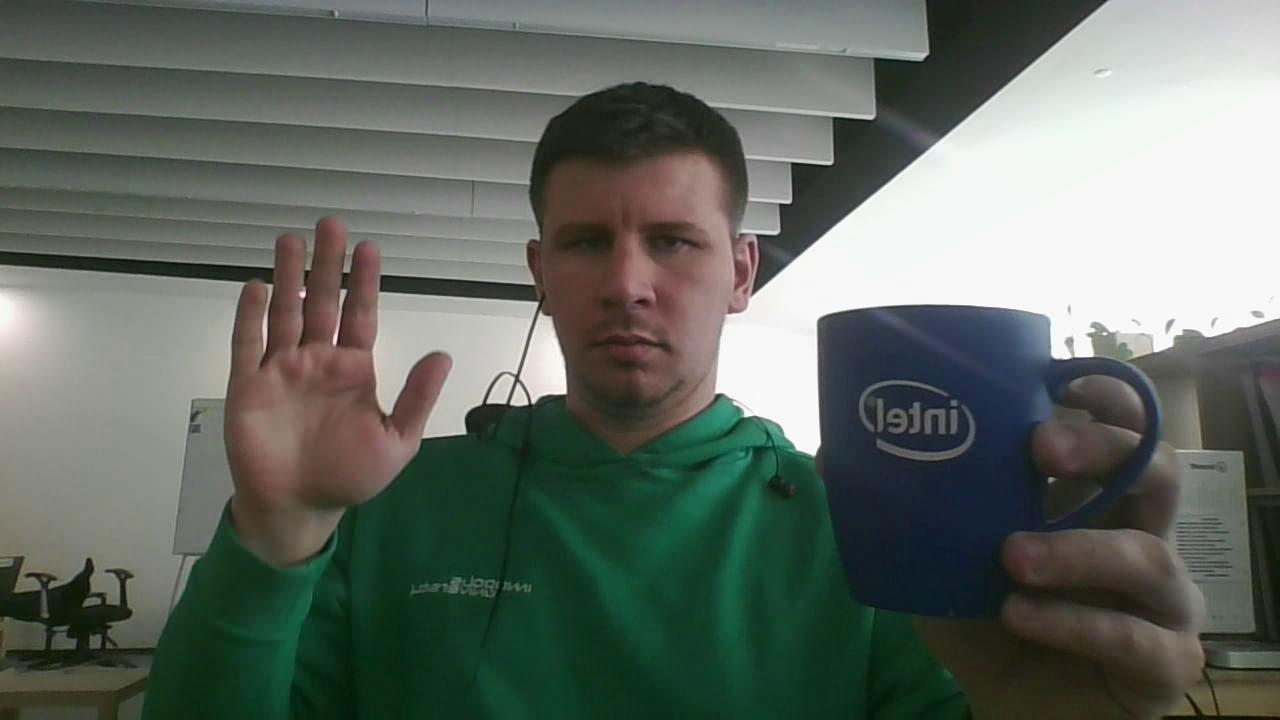cup: (817, 304, 1165, 628)
